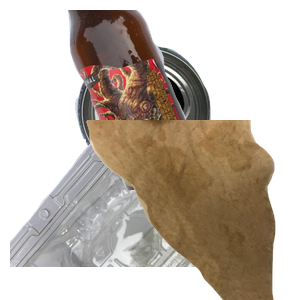glass: (65, 10, 300, 190)
metal: (73, 42, 277, 212)
plastic: (10, 120, 250, 300)
trash: (84, 120, 300, 300)
